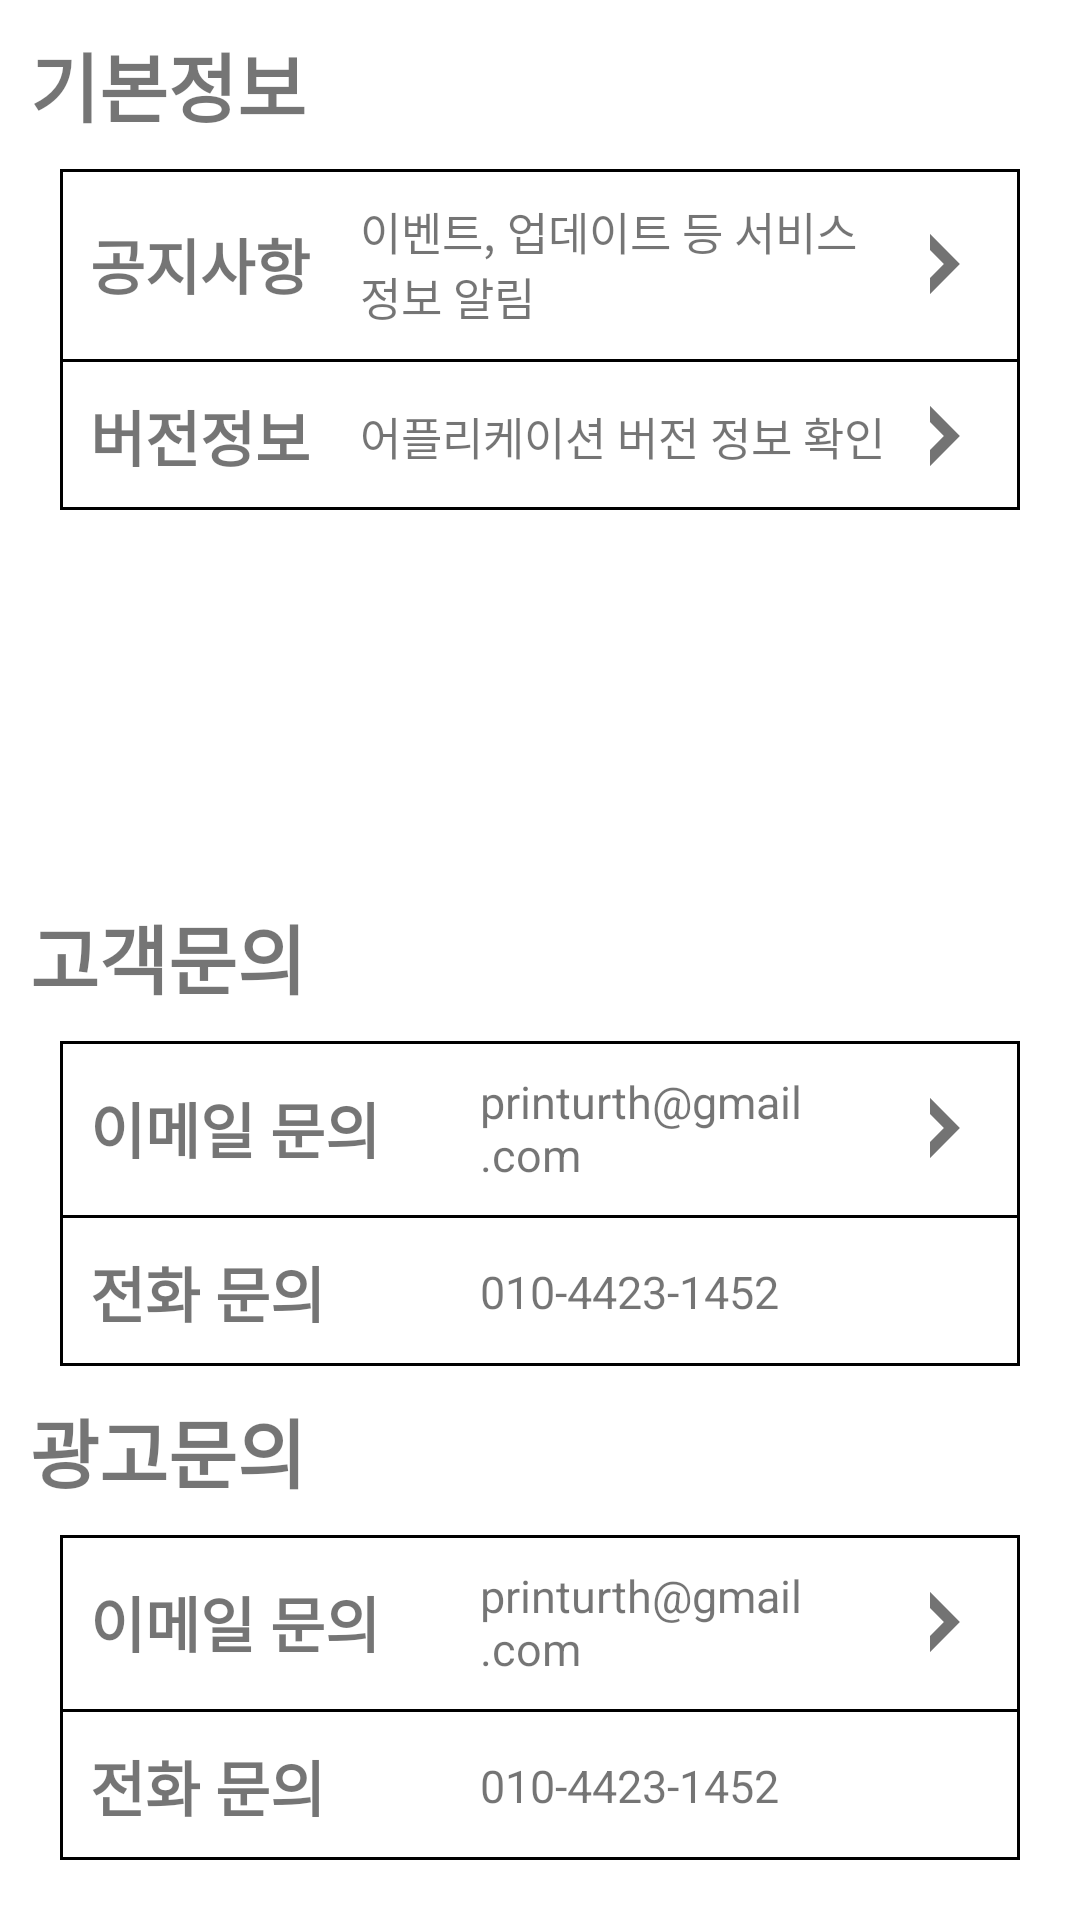

Icons on this 1080px x 1920px Android screen, each with the point to tap as [x,y]:
gobtn: [945,264], [945,436], [945,1128], [945,1622]
